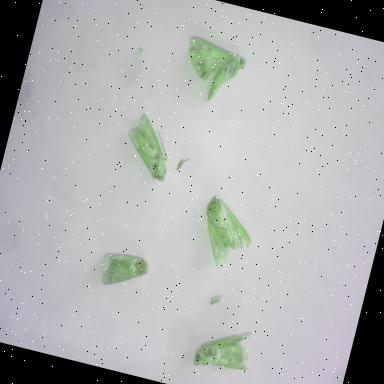abw: (172, 29, 254, 113), (189, 190, 262, 279), (113, 106, 184, 189), (188, 314, 260, 382), (94, 244, 154, 298)
